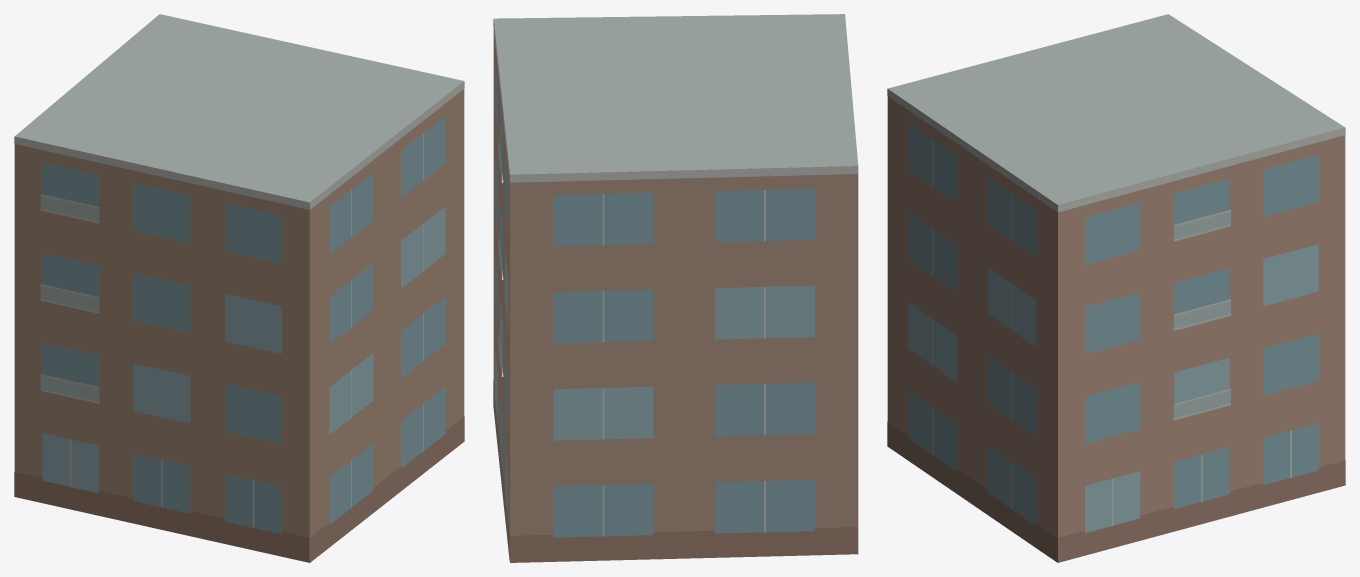
The model's file is survey-upis-33040972.glb.
3 views of the same model, side by side, from view 1: azimuth 30°, elevation 25°; view 2: azimuth 150°, elevation 25°; view 3: azimuth 270°, elevation 25° (orthographic). The views are drawn at different scales.
Parts seen in each view (by area): view 1: survey-upis-33040972.tmp; view 2: survey-upis-33040972.tmp; view 3: survey-upis-33040972.tmp.
Part boxes in pixels (x1,y1,x2,y2): survey-upis-33040972.tmp: (14,14,464,562); survey-upis-33040972.tmp: (493,14,858,562); survey-upis-33040972.tmp: (887,14,1345,562).
Size of the model in its own units: 13.52 by 11.8 by 13.7.
